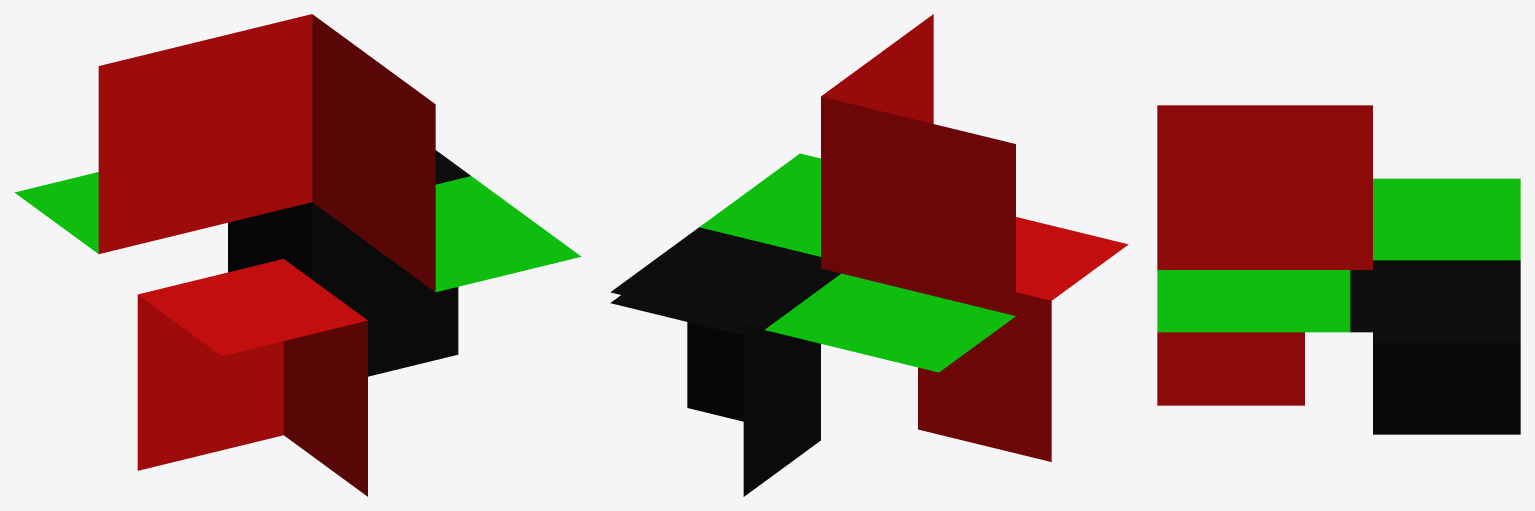
The picture shows the model from 3 angles, left to right: view 1: azimuth 30°, elevation 25°; view 2: azimuth 150°, elevation 25°; view 3: azimuth 270°, elevation 25°; orthographic projection. The views are drawn at different scales.
Visible parts, largest first — view 1: None_P_W_E_E_W_E_E_A_None; view 2: None_P_W_E_E_W_E_E_A_None; view 3: None_P_W_E_E_W_E_E_A_None.
Boxes of the visible parts, <box> form: None_P_W_E_E_W_E_E_A_None: <box>14,14,581,496</box>; None_P_W_E_E_W_E_E_A_None: <box>610,14,1128,496</box>; None_P_W_E_E_W_E_E_A_None: <box>1157,105,1520,434</box>.
Bounding box in the file's own units: 100 × 100 × 100.
